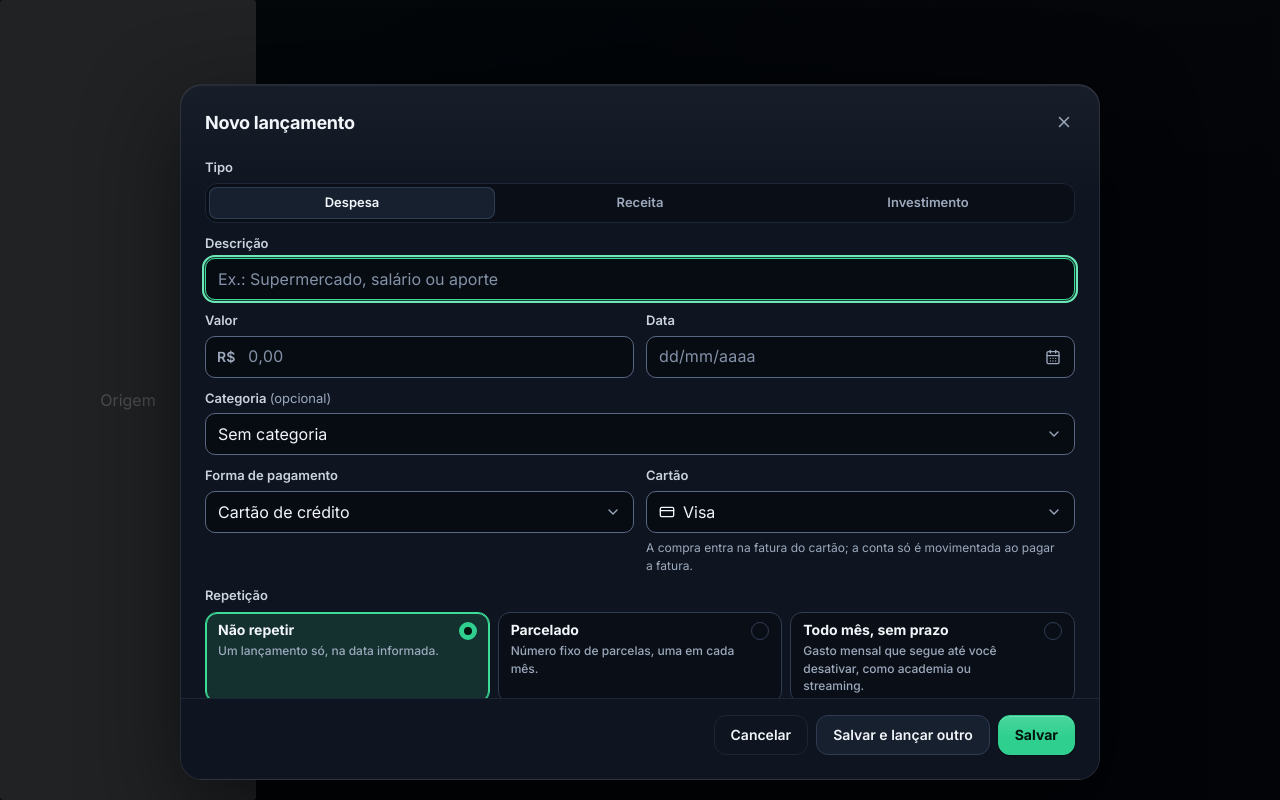
Test: modal de registros › associa labels, foca o primeiro campo e apresenta validação junto ao controle
Expected: the element with class "shell" is shown, [0, 0, 256, 799]
What coordinates should you click on to do the following:
click the button "Salvar"
I would click on:
 (1036, 735)
Its box is [998, 715, 1075, 755].
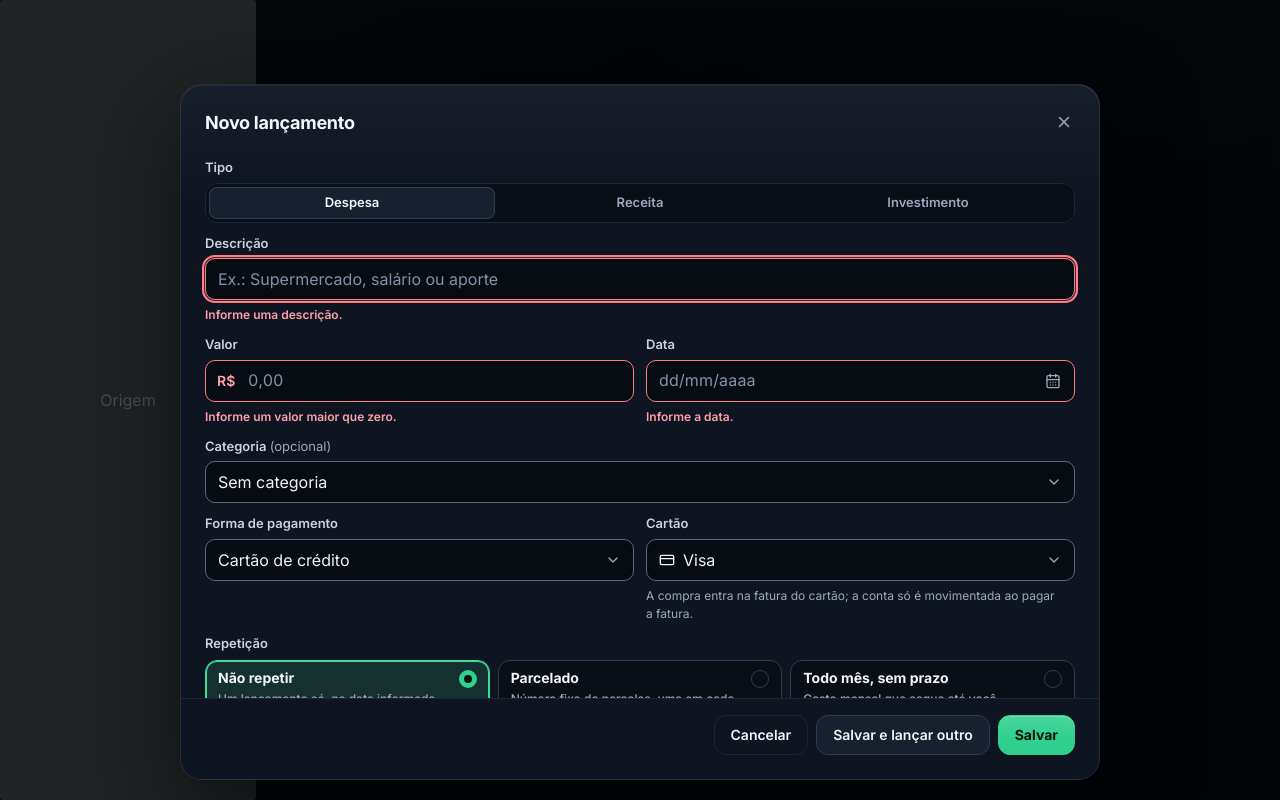
Result: the text "Informe a data." is shown at [646, 409, 734, 424]
